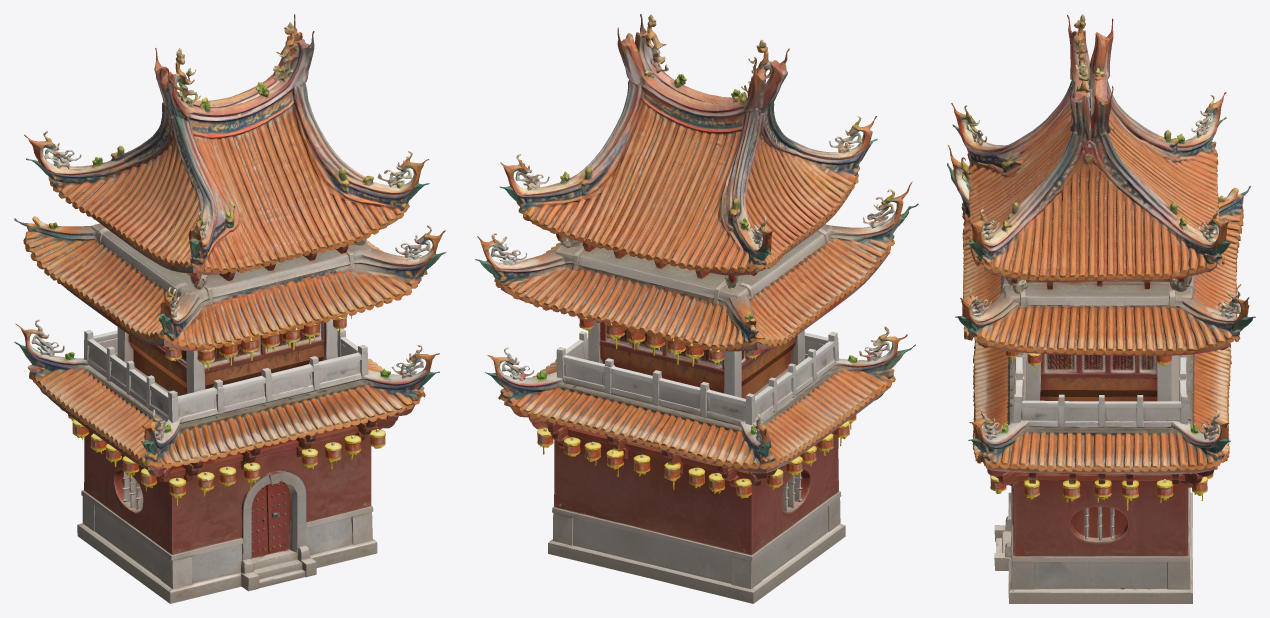
Rendered from bell-tower.glb.
3 views of the same model, side by side, from view 1: azimuth 30°, elevation 25°; view 2: azimuth 150°, elevation 25°; view 3: azimuth 270°, elevation 25° (orthographic).
Visible parts, largest first — view 1: model; view 2: model; view 3: model.
Part boxes in pixels (left/top/right/bottom): model: left=14, top=14, right=446, bottom=603; model: left=475, top=14, right=918, bottom=603; model: left=947, top=14, right=1255, bottom=603.
Bounding box in the file's own units: 1.16 × 1.9 × 1.04.
1 material, 1 textured.
